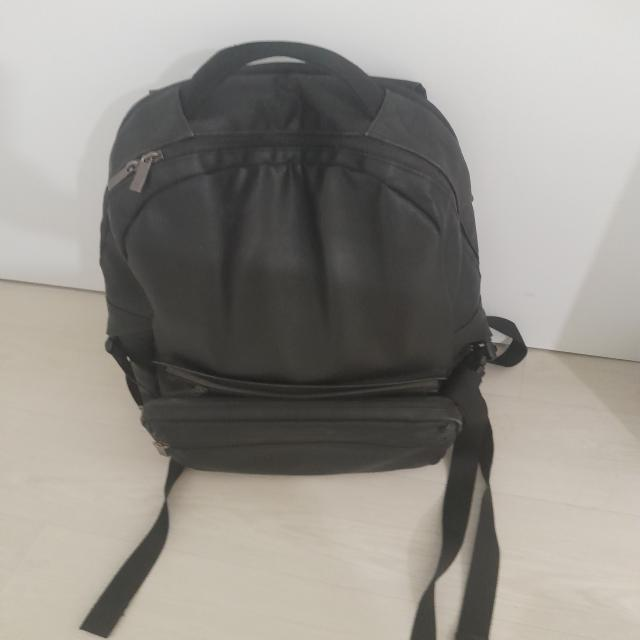backpack: (80, 40, 528, 640)
